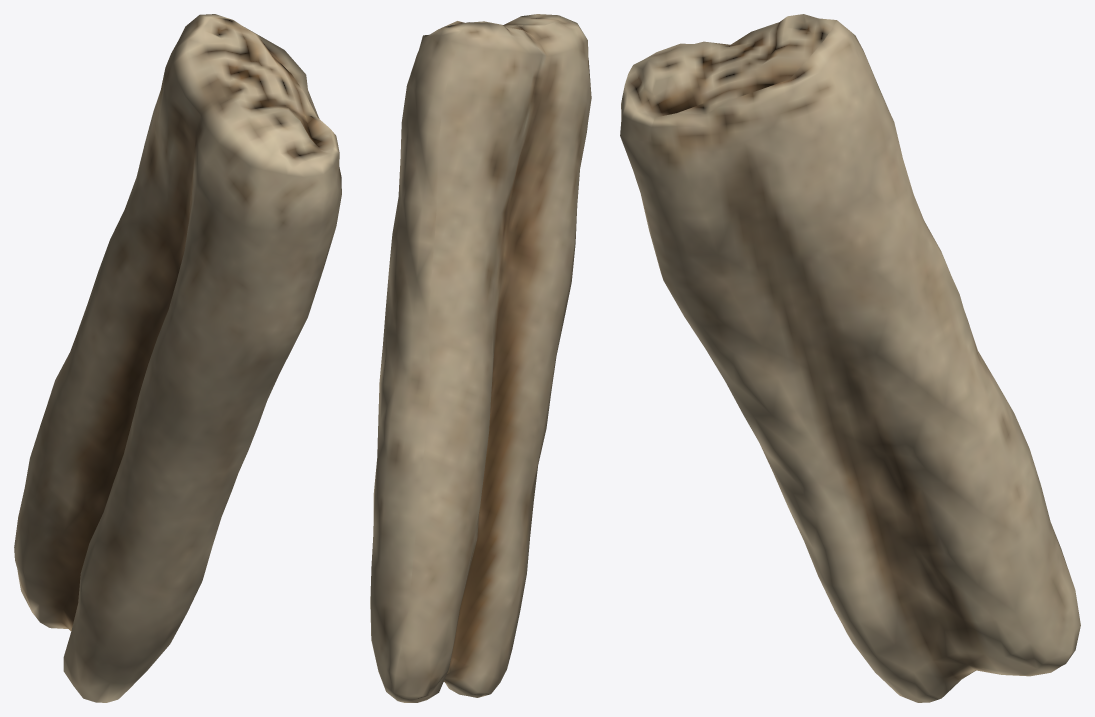
File: Mandibular_Premolar3.glb
3 renders of one model, left to right at view 1: azimuth 30°, elevation 25°; view 2: azimuth 150°, elevation 25°; view 3: azimuth 270°, elevation 25°, orthographic. The views are drawn at different scales.
Parts seen in each view (by area): view 1: Group14599_Mesh.017; view 2: Group14599_Mesh.017; view 3: Group14599_Mesh.017.
Boxes of the visible parts, <box> form: Group14599_Mesh.017: <box>14,14,341,702</box>; Group14599_Mesh.017: <box>370,14,591,702</box>; Group14599_Mesh.017: <box>620,14,1080,702</box>.
Size of the model in its own units: 0.0203 by 0.0803 by 0.0473.
1 material, 1 textured.
